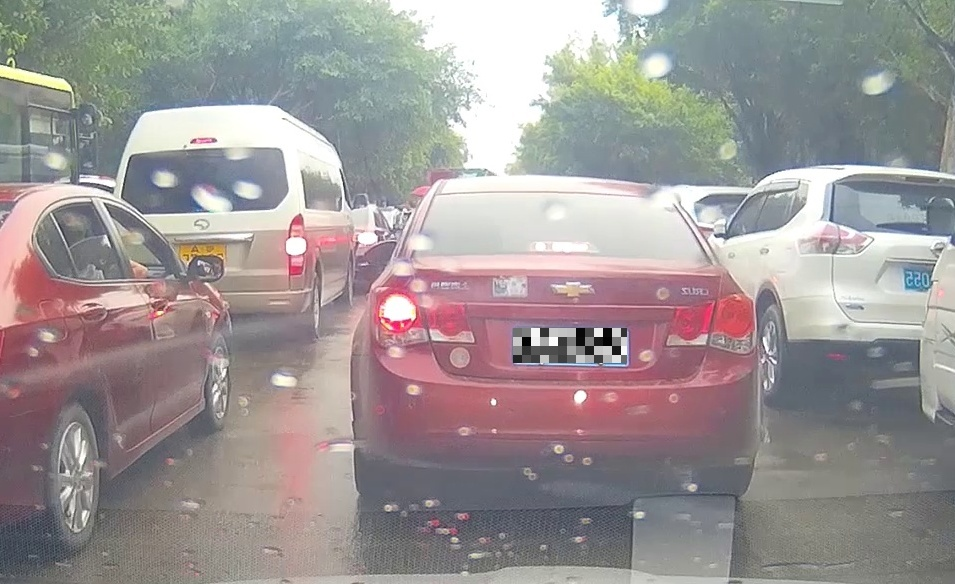L_light: (370, 285, 475, 351)
R_light: (663, 292, 757, 355)
T_light: (531, 240, 596, 254)
day-left: (364, 183, 760, 495)
plate_1: (513, 328, 627, 363)
